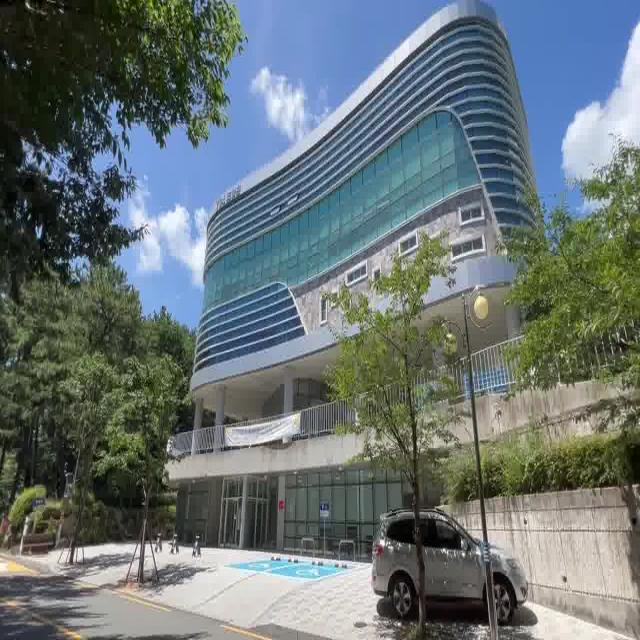building: (187, 19, 541, 323)
